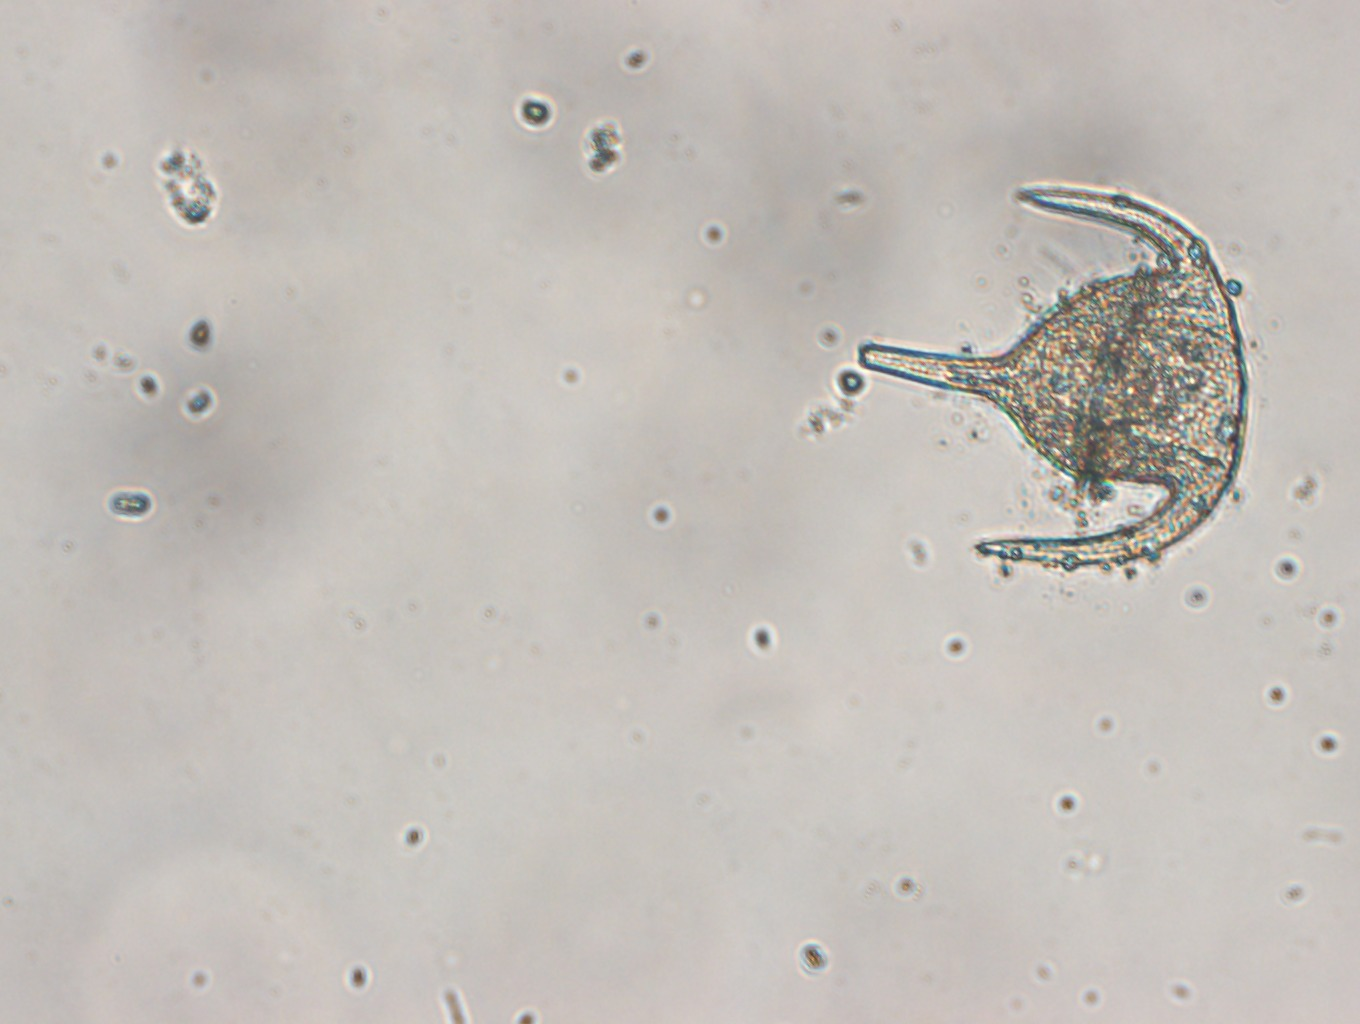ceratium tripos: (851, 177, 1252, 577)
